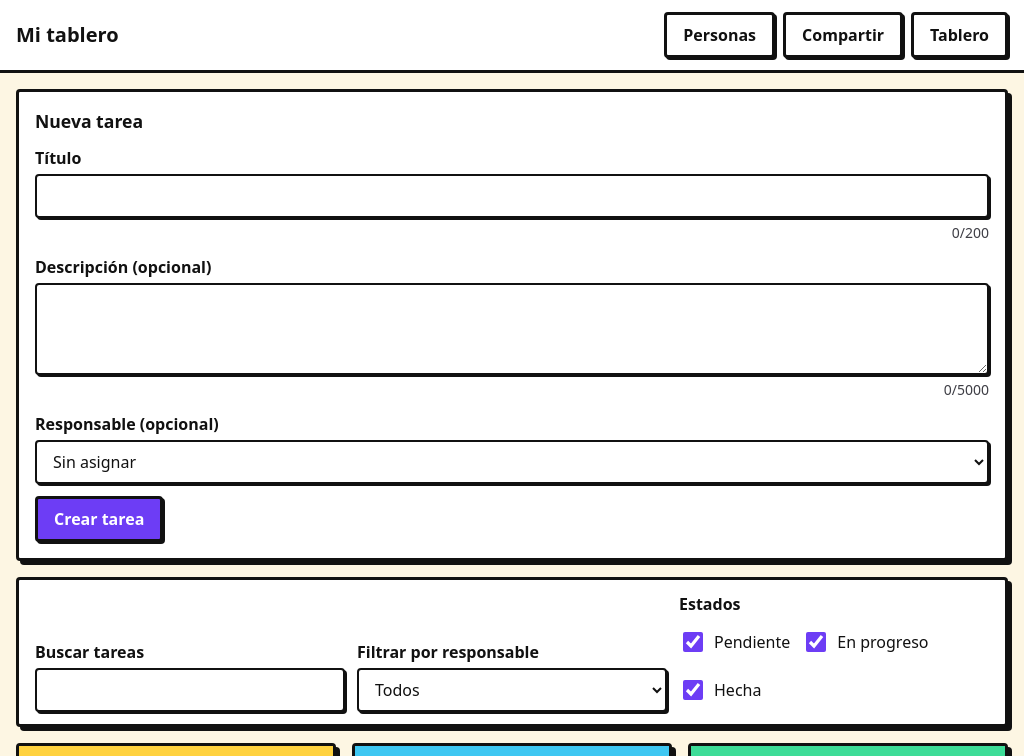
Scenario: gestionar el tablero desde la cabecera › borrar el tablero (US4, FR-115, FR-116) › el botón solo se activa al escribir el nombre exacto
This screenshot has width=1024, height=756.
expect the heading "Mi tablero" is shown: met, box [16,20,119,50]
Click the button "Tablero": (960,35) [911,12,1008,58]
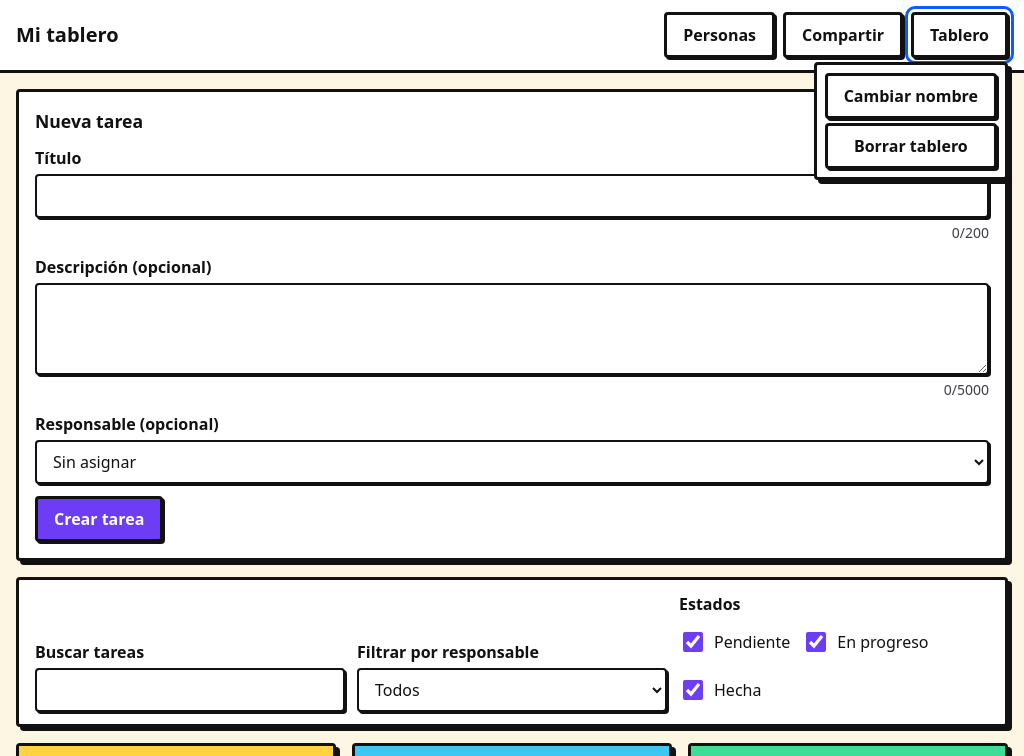
Click the button "Borrar tablero": (911,146) [825,123,997,169]
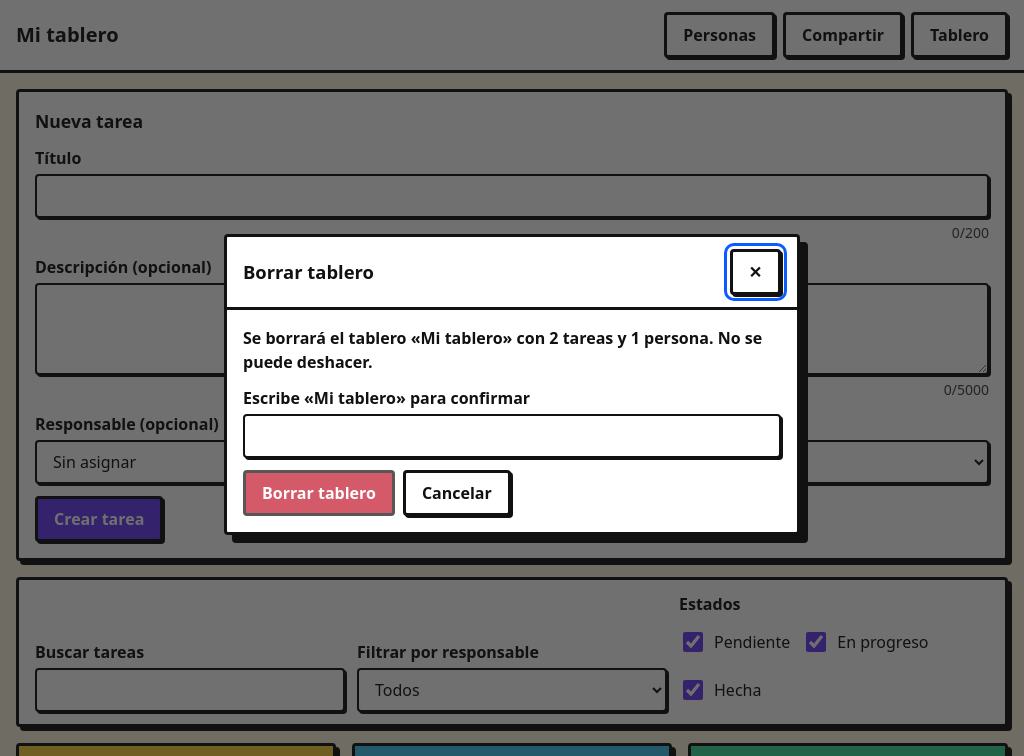
expect the button "Borrar tablero" is disabled: met, box [243,470,395,516]
In the field labelled "Escribe «Mi tablero» para confirmar": (512,436) [243,414,781,458], type "mi tablero"
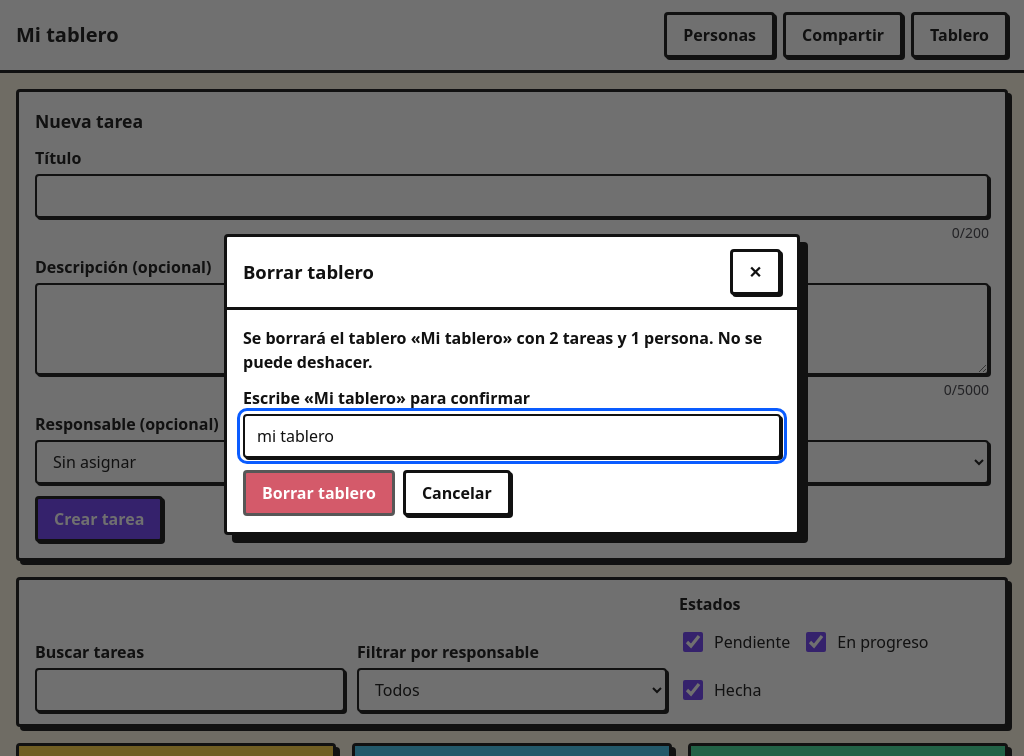
expect the button "Borrar tablero" is disabled: met, box [243,470,395,516]
Replace the text in the field labelled "Escribe «Mi tablero» para confirmar" with "  Mi tablero ": (512,436) [243,414,781,458]
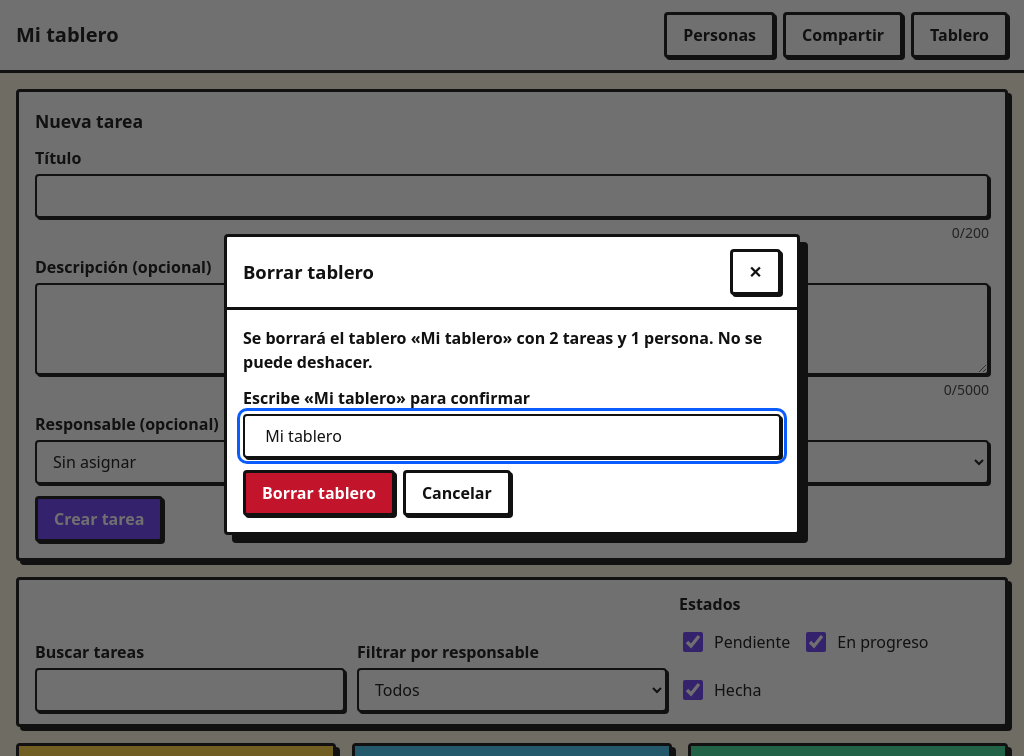
expect the button "Borrar tablero" is enabled: met, box [243,470,395,516]
